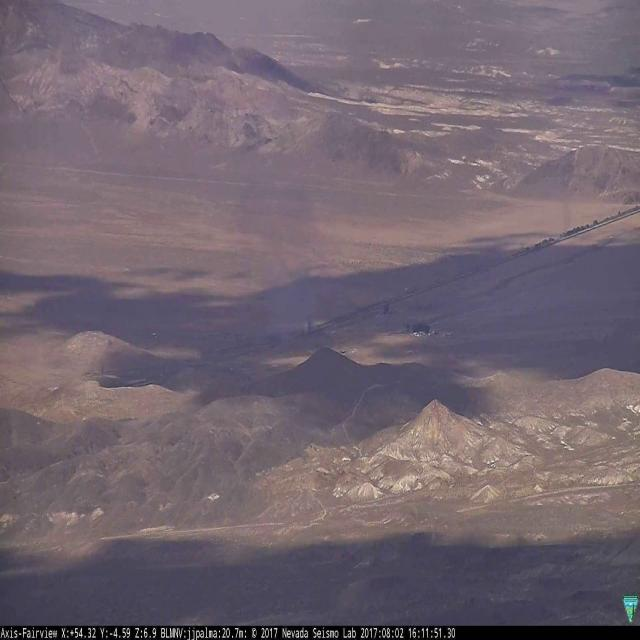smoke: (234, 145, 322, 344)
